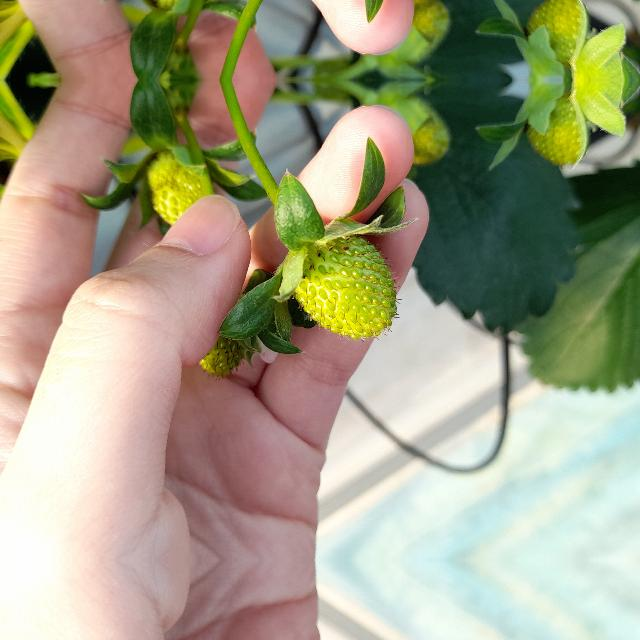Health_25: (294, 235, 402, 342)
